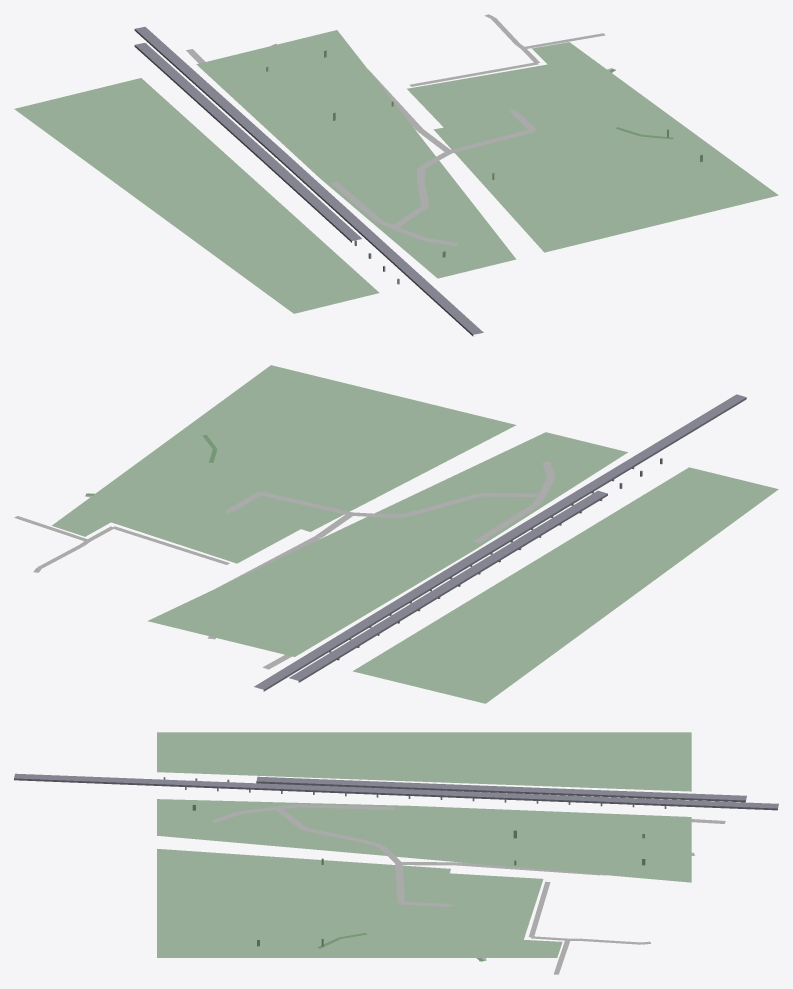
3 renders of one model, top to bottom at view 1: azimuth 30°, elevation 25°; view 2: azimuth 150°, elevation 25°; view 3: azimuth 270°, elevation 25°, orthographic. The views are drawn at different scales.
Size of the model in its own units: 536 by 8.71 by 715.
